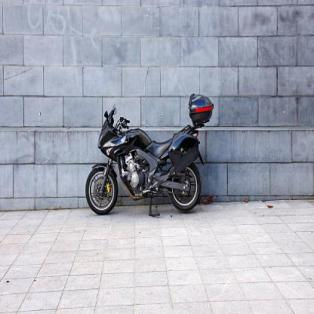Motocicleta: (84, 91, 213, 221)
